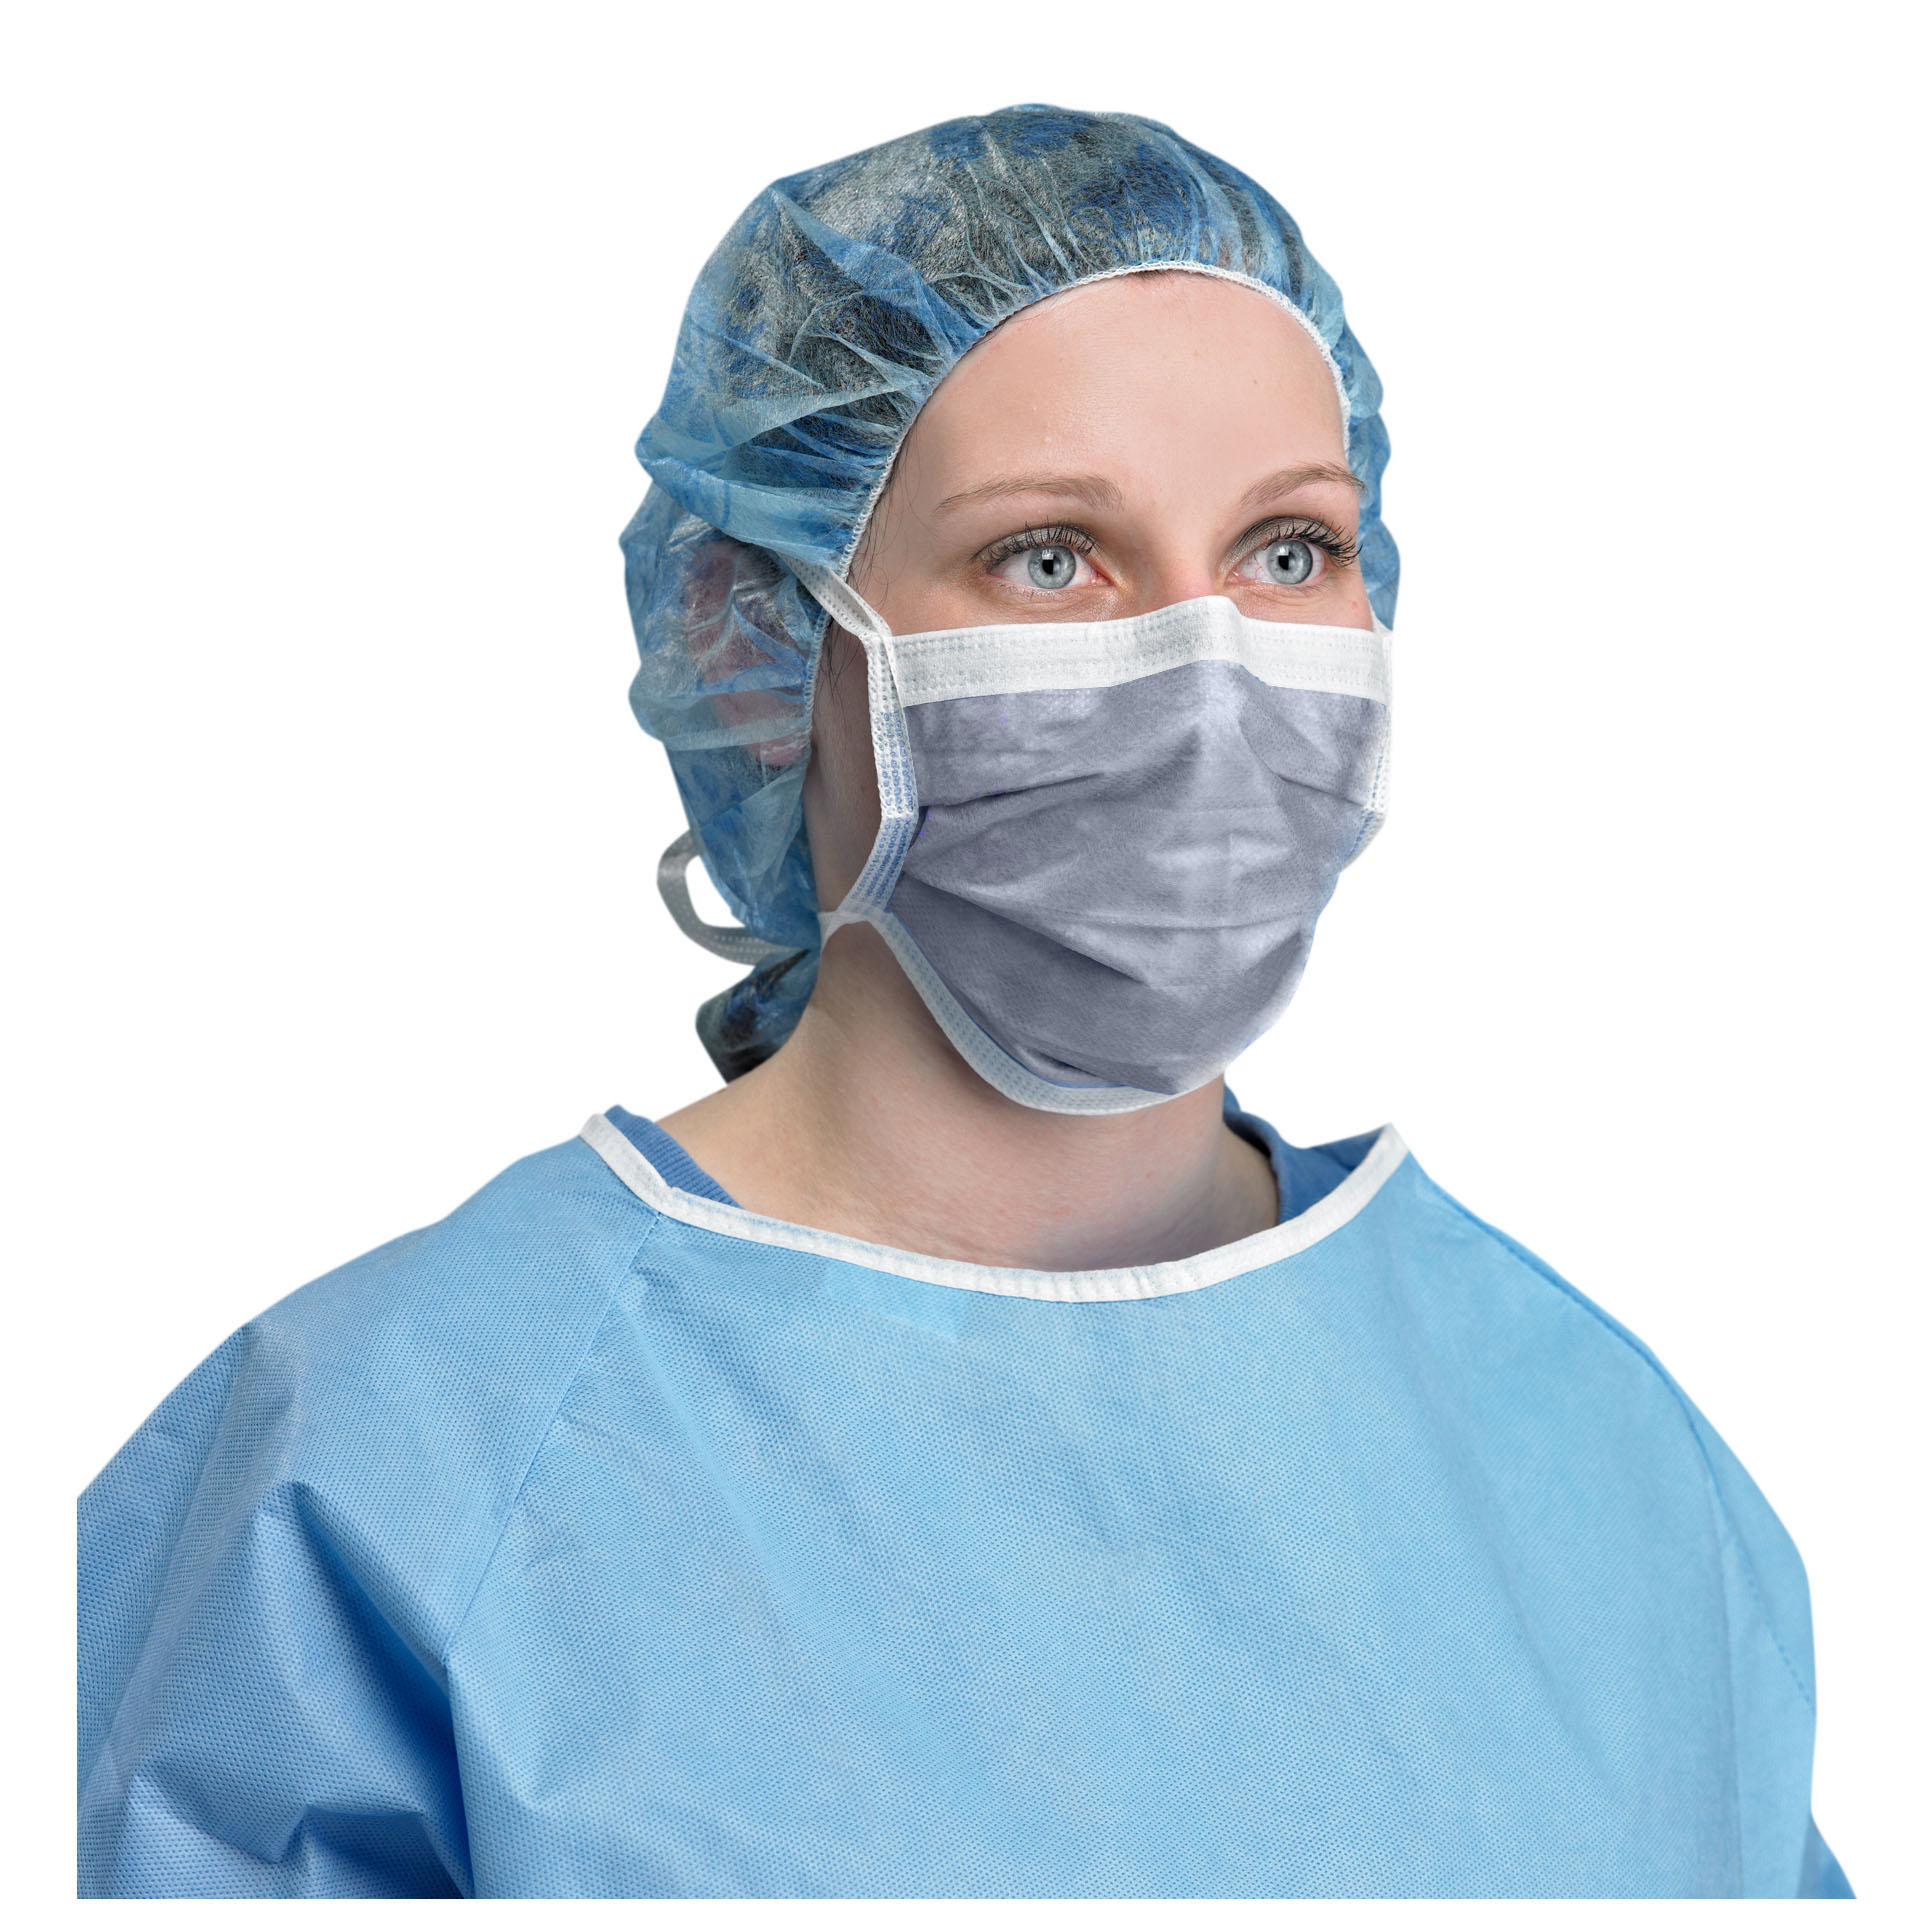with_mask_and_cap: (730, 102, 1387, 1127)
